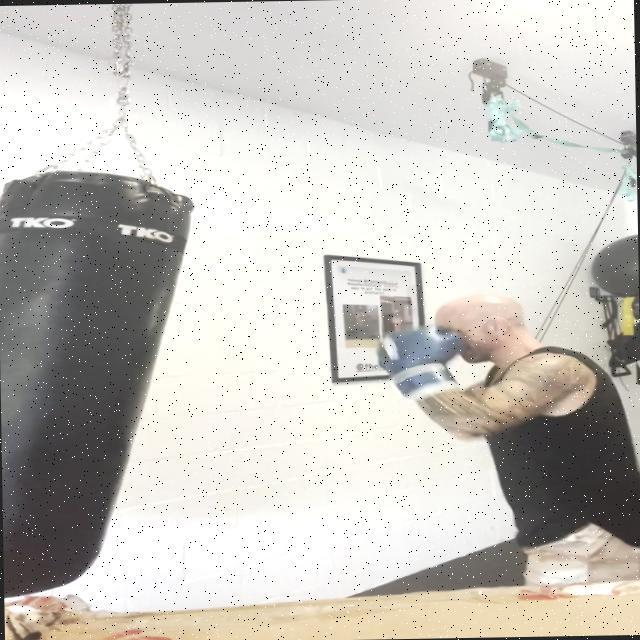bag: (0, 164, 198, 593)
no punch: (349, 294, 619, 440)
